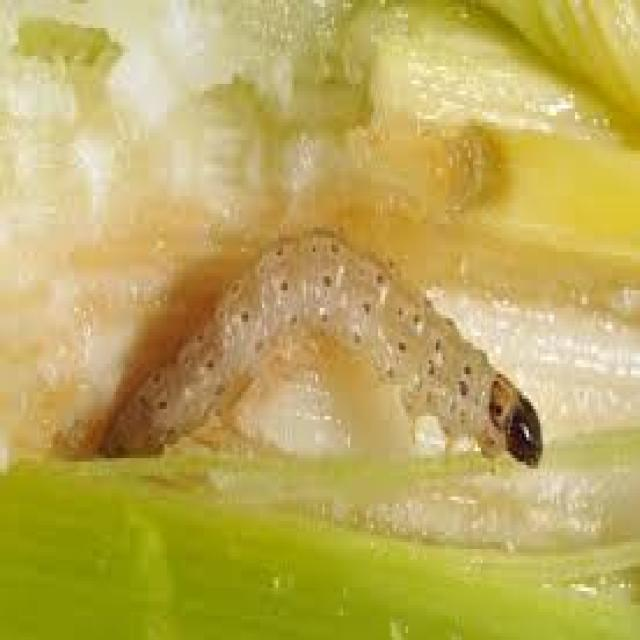Corn-earworm: (113, 223, 550, 494)
